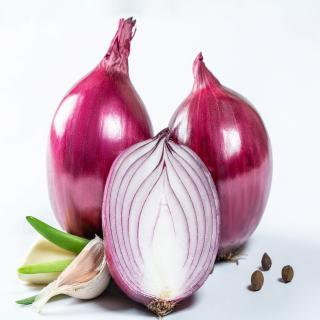Bawang Merah: (46, 17, 156, 241), (102, 128, 222, 319), (168, 52, 274, 265)
